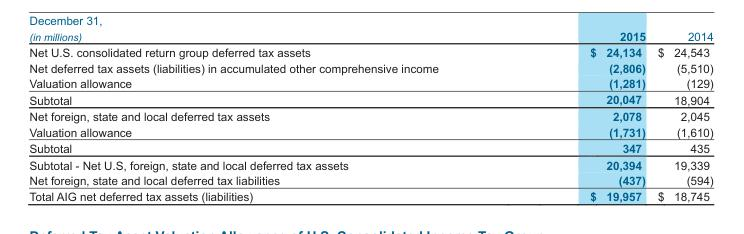table: (28, 28, 712, 202)
table column: (28, 28, 513, 202), (513, 28, 650, 202), (650, 28, 712, 202)
table column header: (28, 28, 712, 43)
table row: (28, 43, 712, 60), (28, 139, 712, 156), (28, 75, 712, 91), (28, 91, 712, 107), (28, 107, 712, 123), (28, 123, 712, 139), (28, 156, 712, 172), (28, 172, 712, 188), (28, 28, 712, 43), (28, 60, 712, 75), (28, 188, 712, 202)
